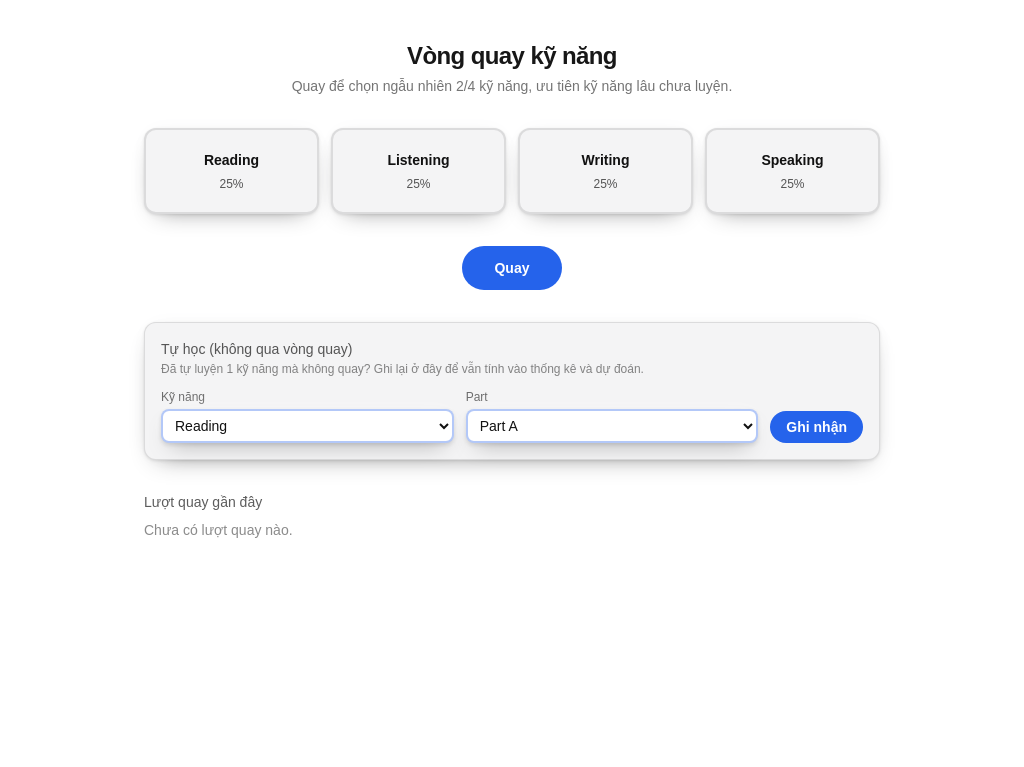
Scenario: Spinner › shows an accuracy-entry form under a Reading/Listening result once the roll settles, but not under Writing/Speaking
Click the button "Quay" at (512, 268), box [462, 246, 562, 290]
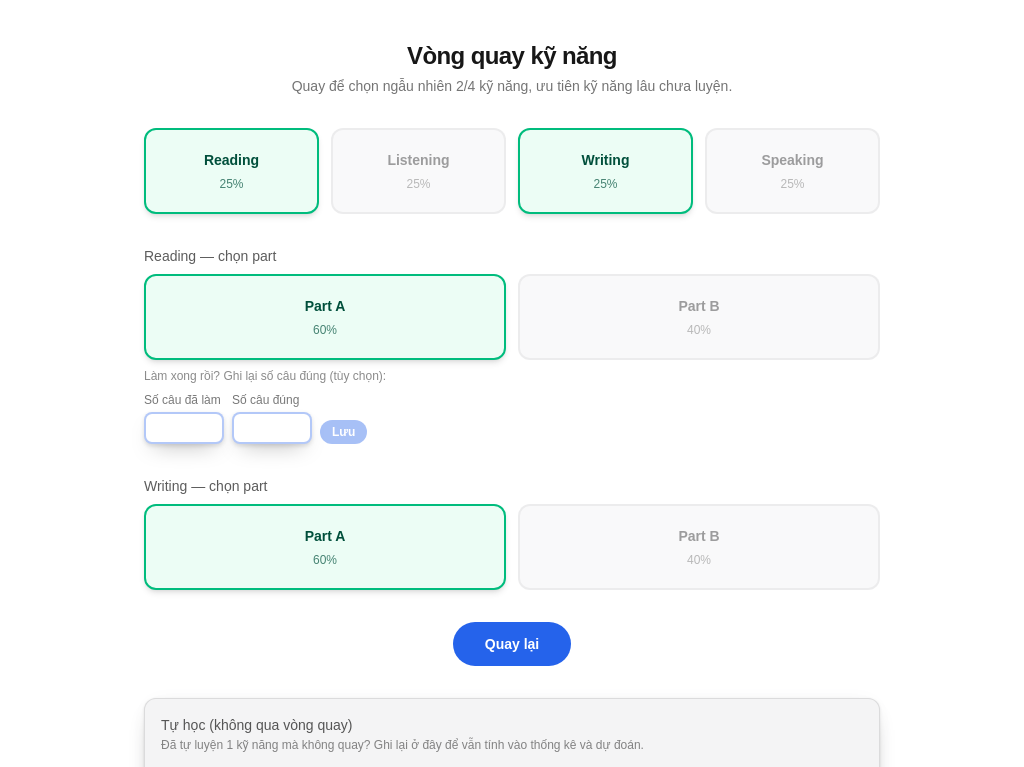
Check: the button "Quay lại" is shown, box [453, 622, 571, 666]
Check: the number of number fields labelled "Số câu đã làm" is 1, box [144, 412, 224, 444]
